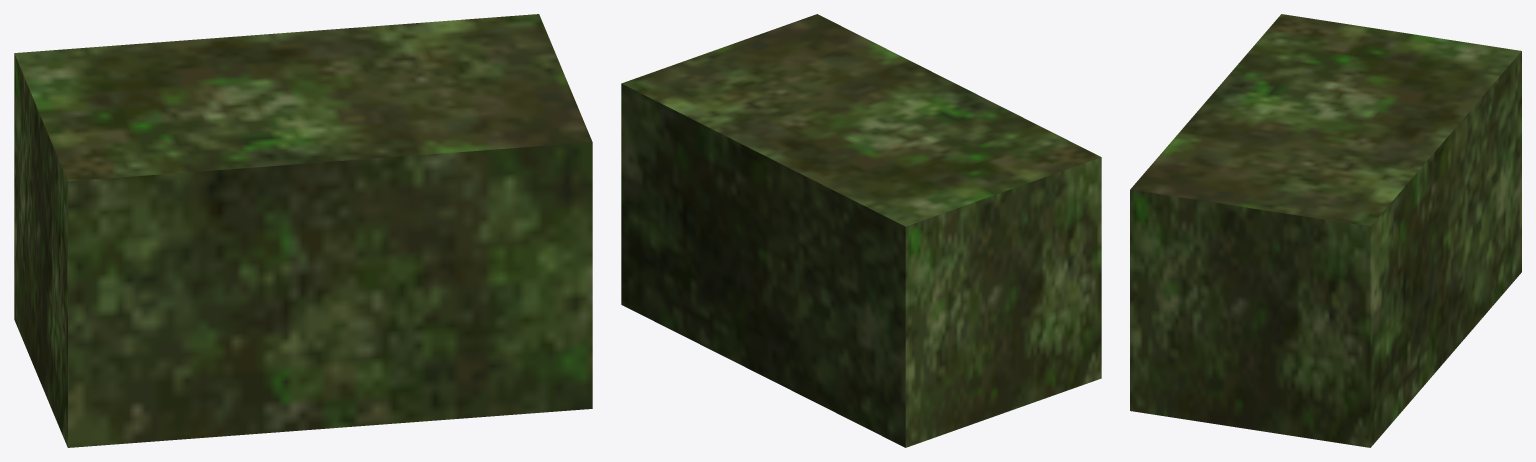
File: OVERHILL_A_01_STONE_BLOCK_46.fbx
The picture shows the model from 3 angles, left to right: view 1: azimuth 30°, elevation 25°; view 2: azimuth 150°, elevation 25°; view 3: azimuth 270°, elevation 25°; orthographic projection. The views are drawn at different scales.
Parts seen in each view (by area): view 1: OVERHILL_A_01_STONE_BLOCK_46; view 2: OVERHILL_A_01_STONE_BLOCK_46; view 3: OVERHILL_A_01_STONE_BLOCK_46.
Boxes of the visible parts, box(x1,y1,x2,y2) form: OVERHILL_A_01_STONE_BLOCK_46: box(14, 14, 592, 447); OVERHILL_A_01_STONE_BLOCK_46: box(621, 14, 1101, 447); OVERHILL_A_01_STONE_BLOCK_46: box(1130, 14, 1521, 447).
Bounding box in the file's own units: 14804 × 7183 × 11525.
Materials: 1 (1 with a texture image).
